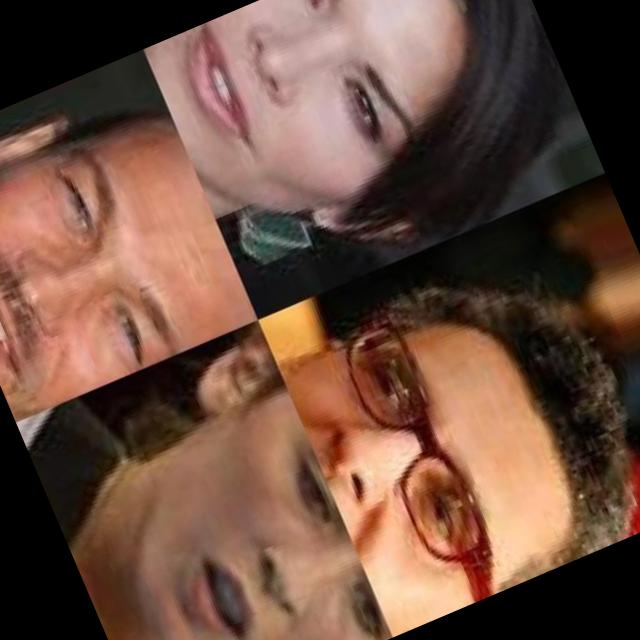bareface: (0, 85, 252, 416)
